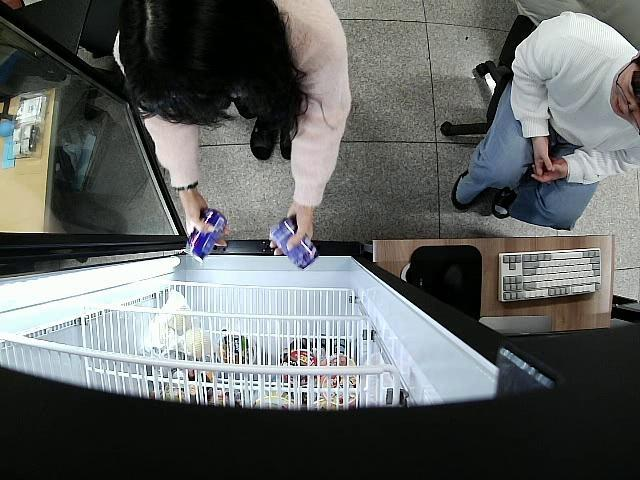14_welchsGrape: (268, 214, 316, 269), (184, 210, 227, 260)
